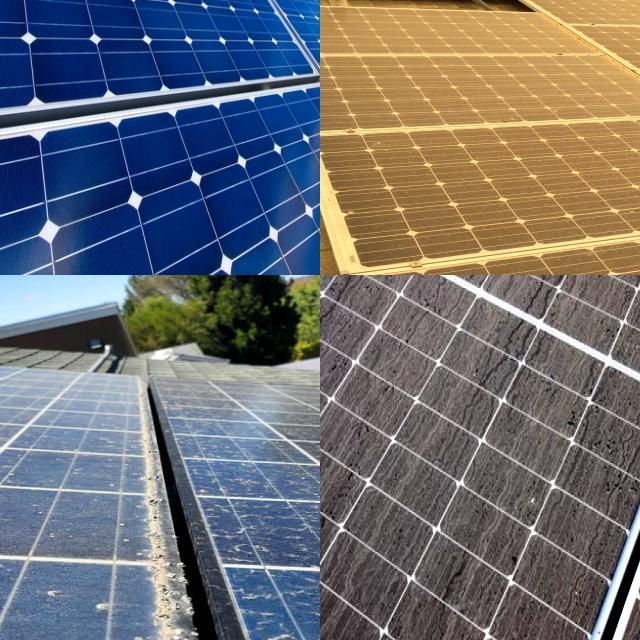crack: (0, 82, 320, 275), (0, 0, 306, 160), (216, 0, 320, 100)
dust: (478, 296, 585, 640), (320, 342, 448, 476), (320, 530, 448, 640), (0, 553, 153, 640), (205, 433, 320, 547), (0, 445, 130, 542), (320, 275, 478, 335), (508, 275, 640, 345), (0, 380, 148, 421), (0, 452, 40, 545), (320, 275, 357, 313)
